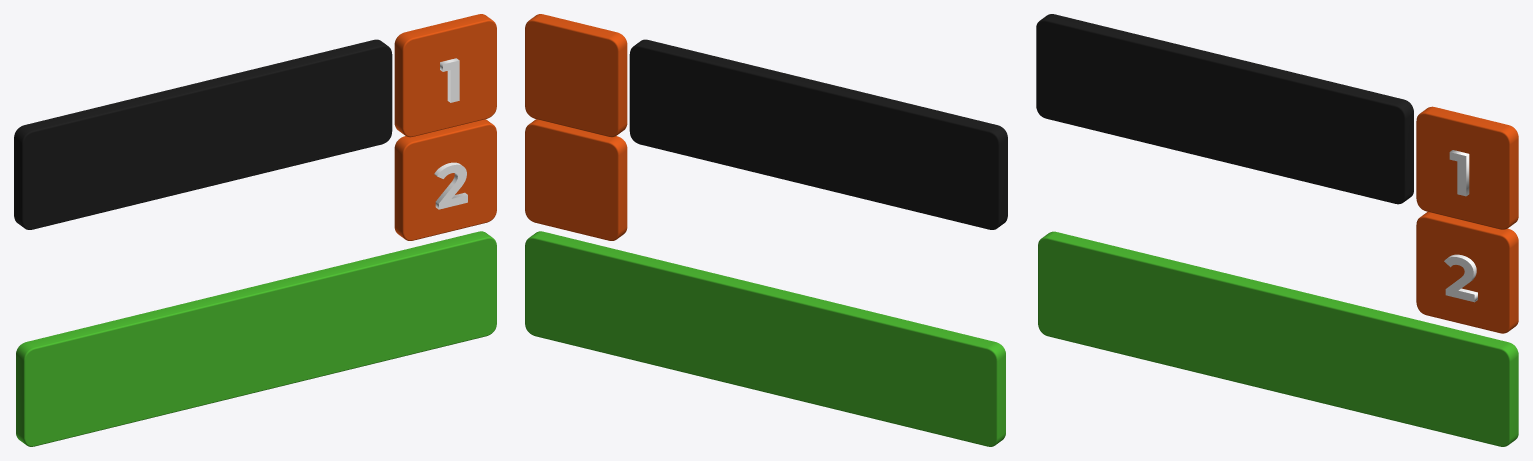
The model's file is Measurement.fbx.
3 renders of one model, left to right at view 1: azimuth 30°, elevation 25°; view 2: azimuth 150°, elevation 25°; view 3: azimuth 330°, elevation 25°, orthographic.
Parts seen in each view (by area): view 1: Curve.068, Curve.065, Curve.066, Curve.067, Curve.016, Curve.050; view 2: Curve.068, Curve.065, Curve.066, Curve.067; view 3: Curve.068, Curve.065, Curve.066, Curve.067, Curve.016, Curve.050.
Part boxes in pixels (x1=…): Curve.068: x1=16, y1=231, x2=496, y2=446; Curve.065: x1=14, y1=39, x2=392, y2=229; Curve.066: x1=394, y1=14, x2=496, y2=137; Curve.067: x1=394, y1=119, x2=496, y2=240; Curve.016: x1=434, y1=162, x2=467, y2=209; Curve.050: x1=440, y1=58, x2=459, y2=102; Curve.068: x1=525, y1=231, x2=1005, y2=446; Curve.065: x1=629, y1=39, x2=1007, y2=229; Curve.066: x1=525, y1=14, x2=627, y2=137; Curve.067: x1=525, y1=119, x2=627, y2=240; Curve.068: x1=1038, y1=231, x2=1518, y2=446; Curve.065: x1=1036, y1=14, x2=1413, y2=204; Curve.066: x1=1416, y1=106, x2=1518, y2=229; Curve.067: x1=1416, y1=212, x2=1518, y2=333; Curve.016: x1=1444, y1=254, x2=1477, y2=302; Curve.050: x1=1449, y1=150, x2=1469, y2=196.
Bounding box in the file's own units: 182 × 116 × 8.04.
